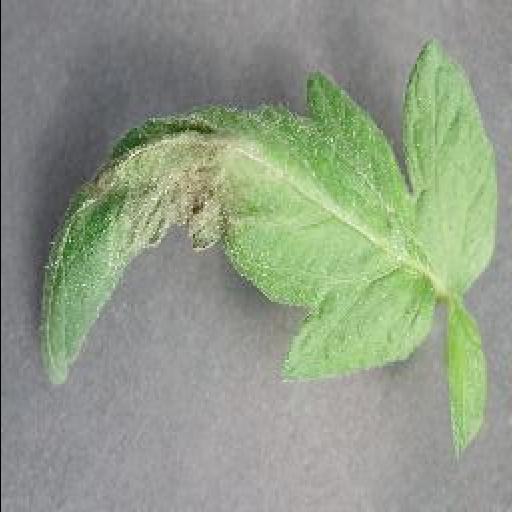disease_tomato: (35, 42, 497, 394)
